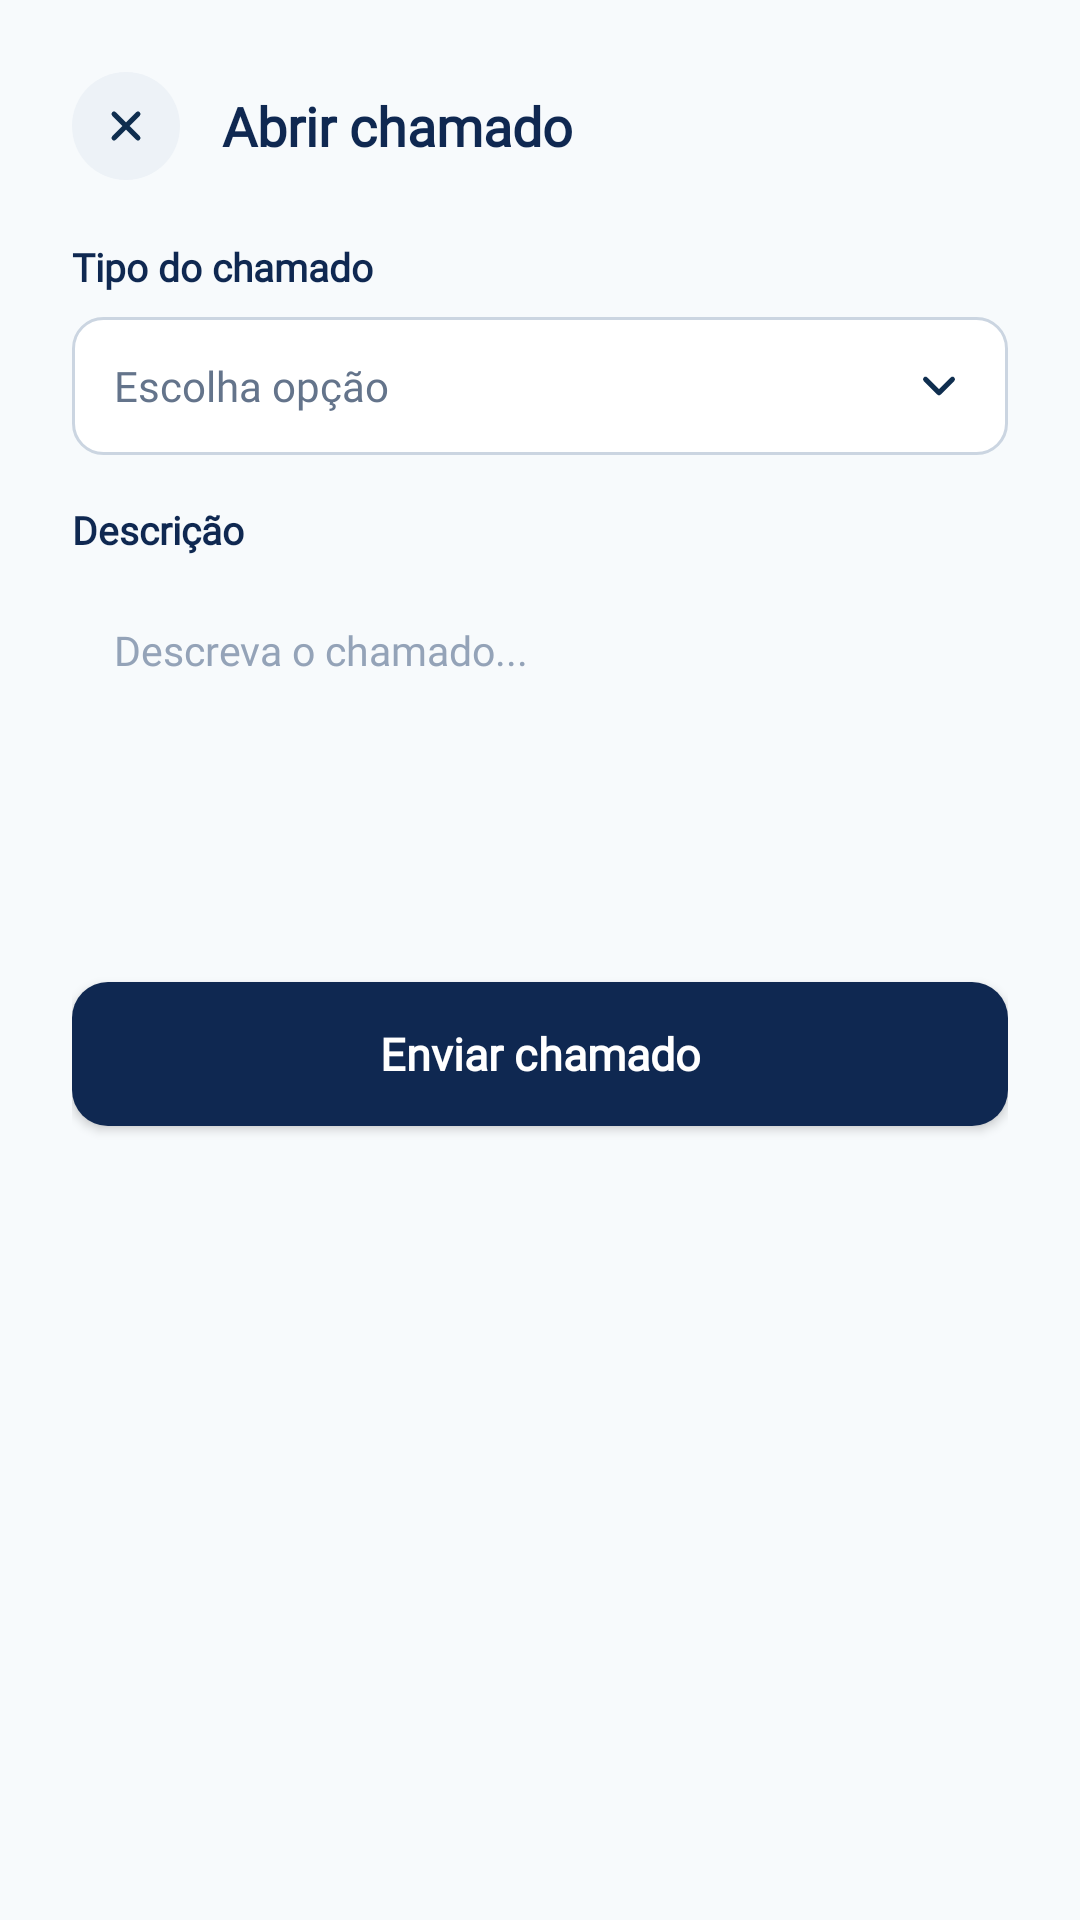

Named icons in this screenshot (1080×1920) and their bounding boxes, (x1, y1, x2, y2):
Fechar: (111, 111, 141, 141)
Selecionar opção: (923, 376, 955, 396)
